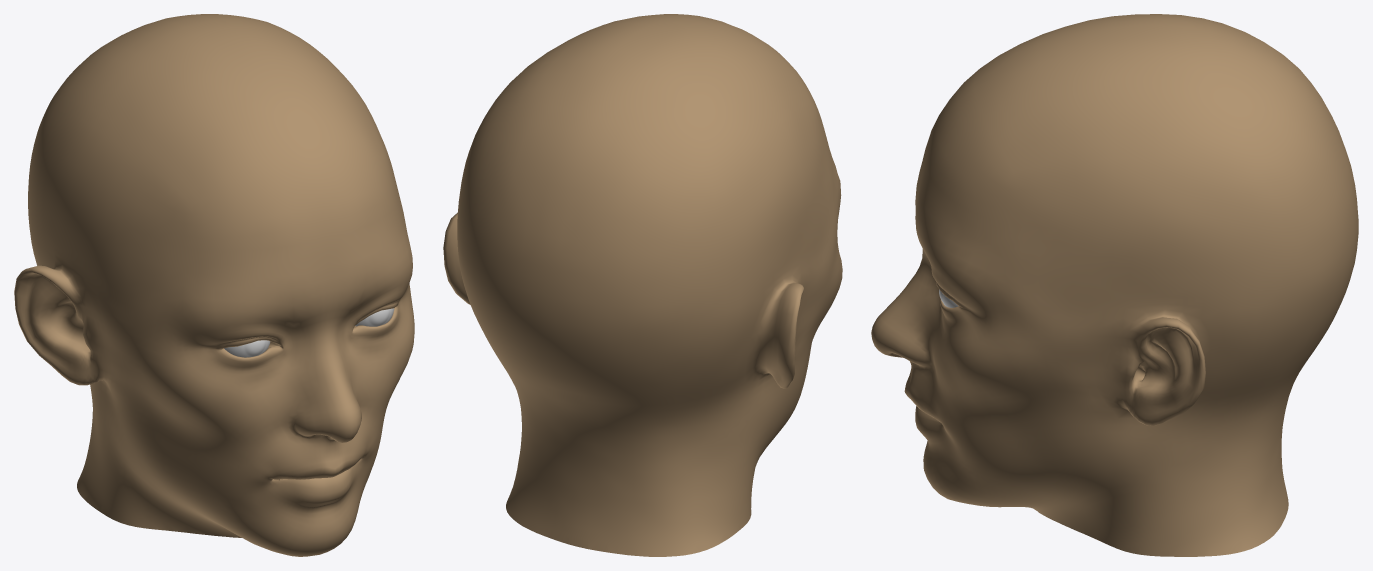
The model's file is newheadall_2_2.fbx.
3 views of the same model, side by side, from view 1: azimuth 30°, elevation 25°; view 2: azimuth 150°, elevation 25°; view 3: azimuth 270°, elevation 25° (orthographic). The views are drawn at different scales.
Visible parts, largest first — view 1: HG_Body.002; view 2: HG_Body.002; view 3: HG_Body.002.
Boxes of the visible parts, x1,y1,x2,y2 form: HG_Body.002: [14, 14, 414, 556]; HG_Body.002: [443, 14, 842, 556]; HG_Body.002: [871, 14, 1358, 556].
Bounding box in the file's own units: 18.91 × 23.52 × 21.98.
